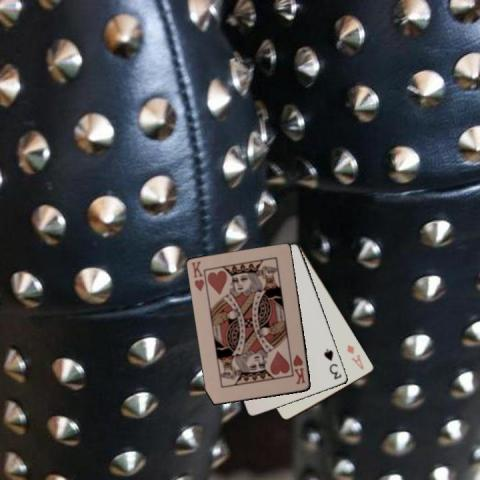3s: (322, 346, 344, 381)
Ad: (344, 342, 365, 371)
Kh: (189, 258, 206, 293), (290, 352, 307, 386)
